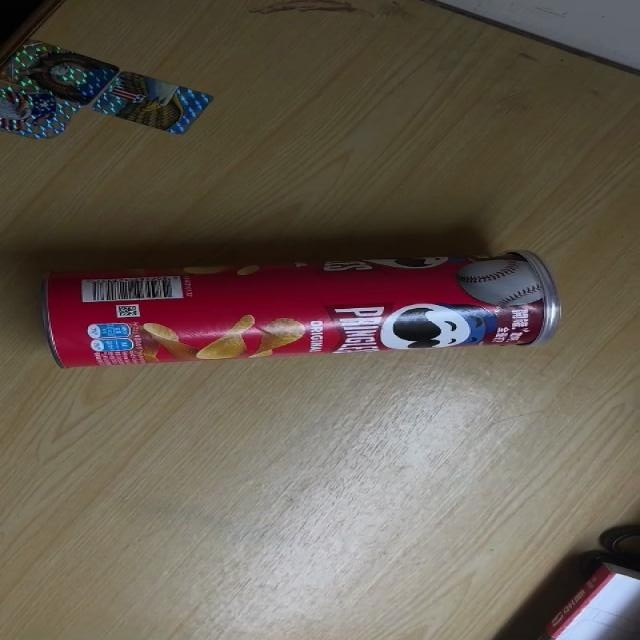Pringles: (40, 250, 562, 372)
